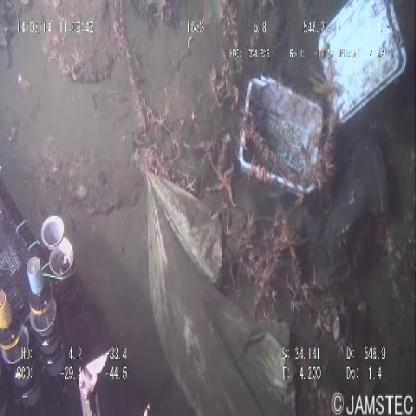Rov: (1, 140, 158, 416)
Rác: (233, 1, 414, 212)
